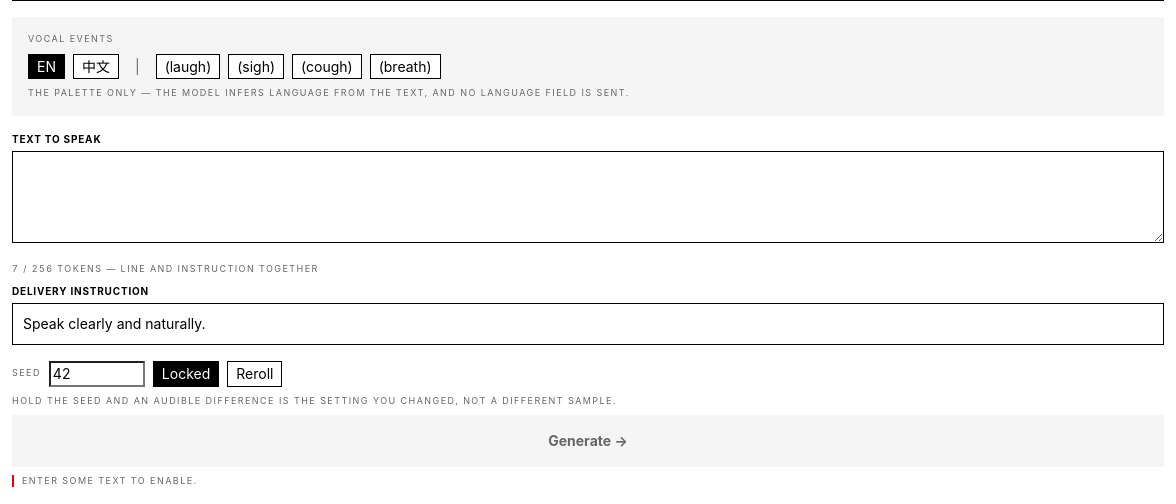
Test: the seed makes a comparison meaningful › rerolls to a new displayed value
Click the button "Reroll". click: (255, 374)
box: top-left (227, 361), bottom-right (282, 387)
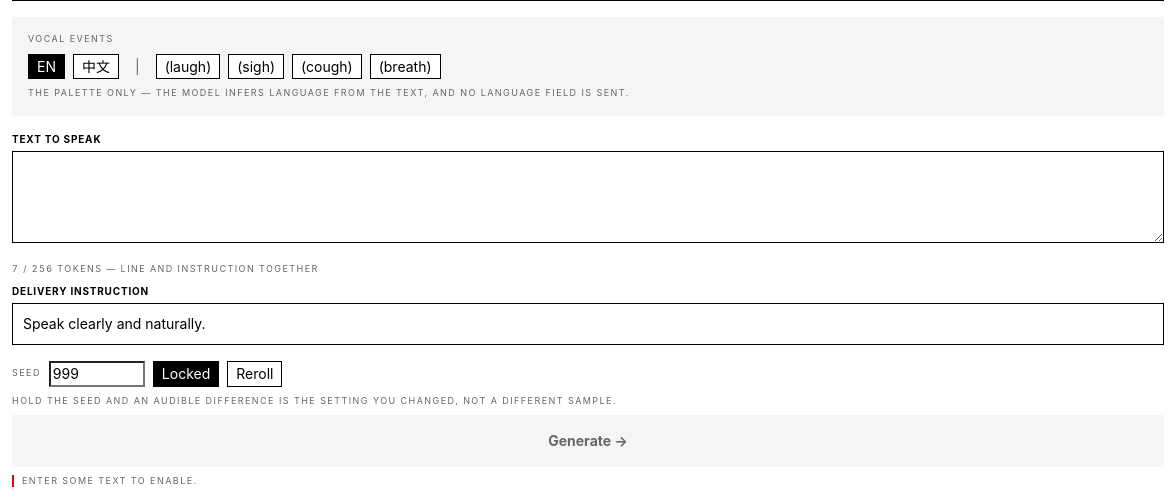
Now the number field named "Seed" holds "999", box top-left (49, 361), bottom-right (145, 387)
